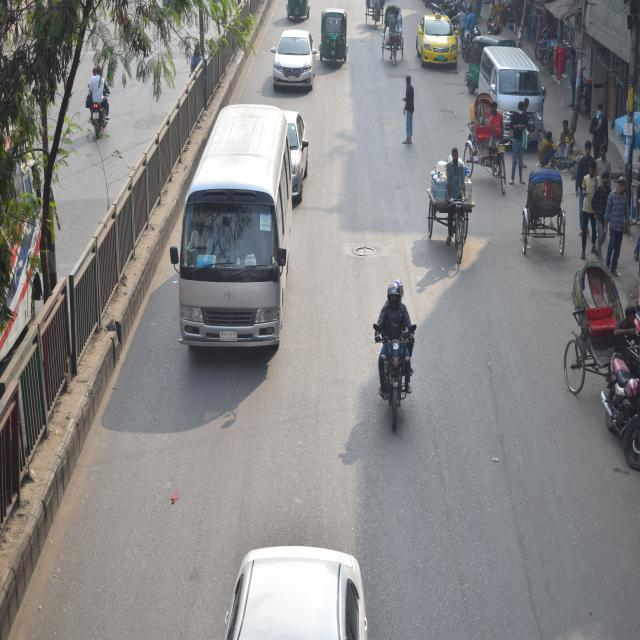car: (272, 27, 320, 104), (412, 13, 460, 68)
microbus: (173, 94, 290, 372), (474, 46, 558, 160)
motorbike: (371, 270, 427, 433), (85, 58, 111, 143)
